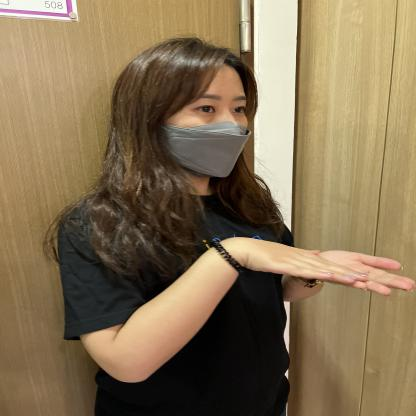Love: (152, 219, 415, 314)
